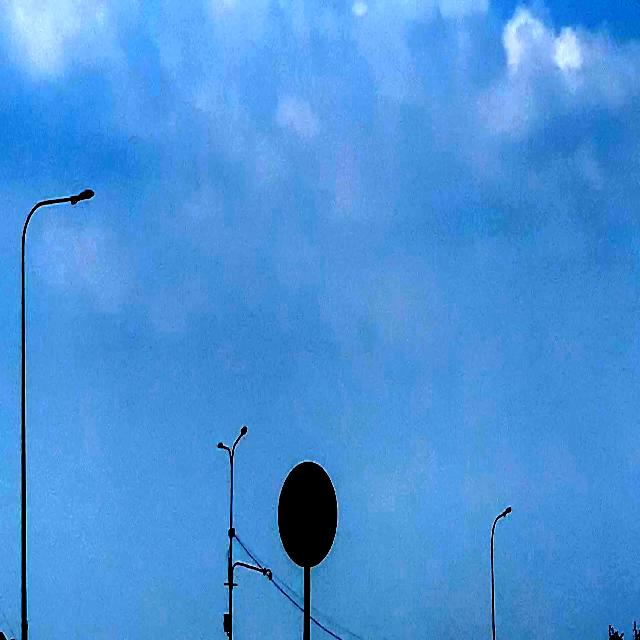Cam quay dau xe: (278, 461, 338, 568)
